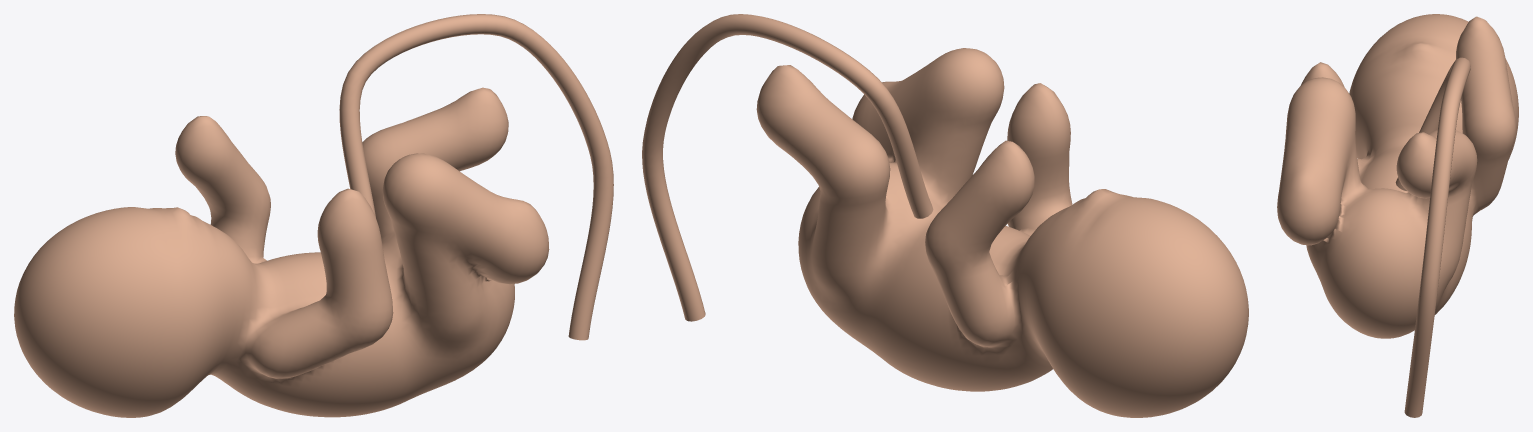
The model's file is julio.gltf.
3 renders of one model, left to right at view 1: azimuth 30°, elevation 25°; view 2: azimuth 150°, elevation 25°; view 3: azimuth 270°, elevation 25°, orthographic. The views are drawn at different scales.
Visible parts, largest first — view 1: Alessa_julio_continuous_surface, cord; view 2: Alessa_julio_continuous_surface, cord; view 3: Alessa_julio_continuous_surface, cord.
Part boxes in pixels (x1,y1,x2,y2): Alessa_julio_continuous_surface: [14, 87, 549, 417]; cord: [339, 14, 613, 340]; Alessa_julio_continuous_surface: [756, 48, 1248, 417]; cord: [642, 14, 933, 321]; Alessa_julio_continuous_surface: [1277, 14, 1518, 338]; cord: [1395, 57, 1470, 417].
Size of the model in its own units: 2.23 by 1.24 by 0.904.
